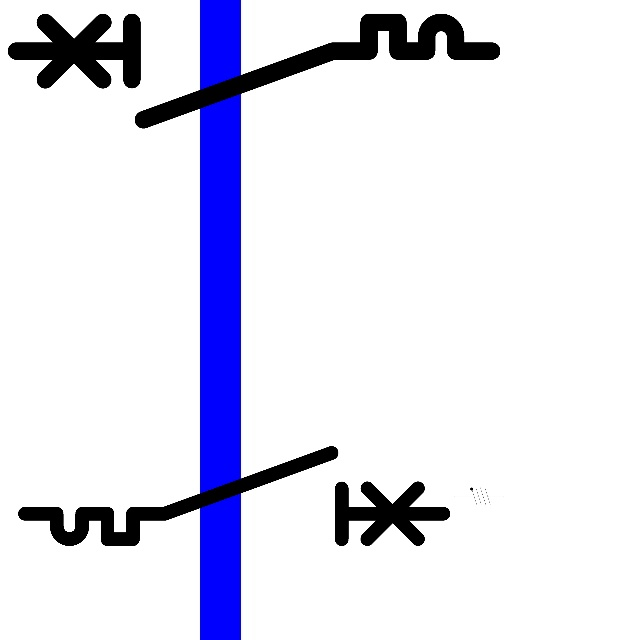interruptor_termomagnetico: (4, 10, 504, 132), (14, 442, 454, 550)
